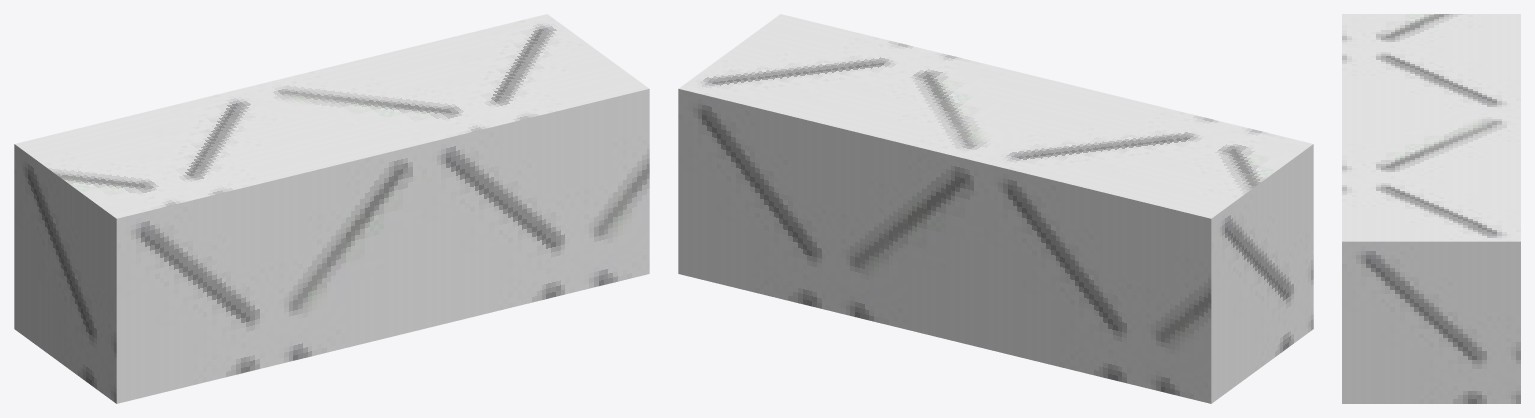
The picture shows the model from 3 angles, left to right: view 1: azimuth 30°, elevation 25°; view 2: azimuth 150°, elevation 25°; view 3: azimuth 270°, elevation 25°; orthographic projection. The views are drawn at different scales.
Visible parts, largest first — view 1: fk; view 2: fk; view 3: fk.
Boxes of the visible parts, x1,y1,x2,y2 form: fk: (14, 14, 649, 403); fk: (678, 14, 1313, 403); fk: (1342, 14, 1520, 403).
Bounding box in the file's own units: 123 × 40.9 × 40.9.
